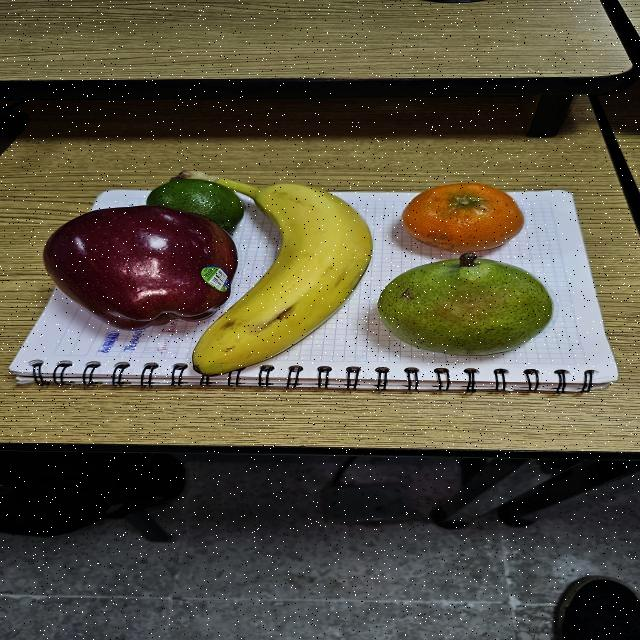Apel Merah: (39, 204, 250, 334)
Jeruk Mandarin: (396, 180, 528, 254)
Lemon: (133, 173, 254, 236)
Pir: (368, 252, 557, 364)
Pisang: (156, 168, 378, 378)
